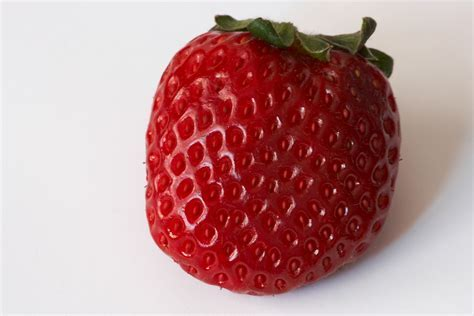strawberry: (144, 14, 402, 298)
